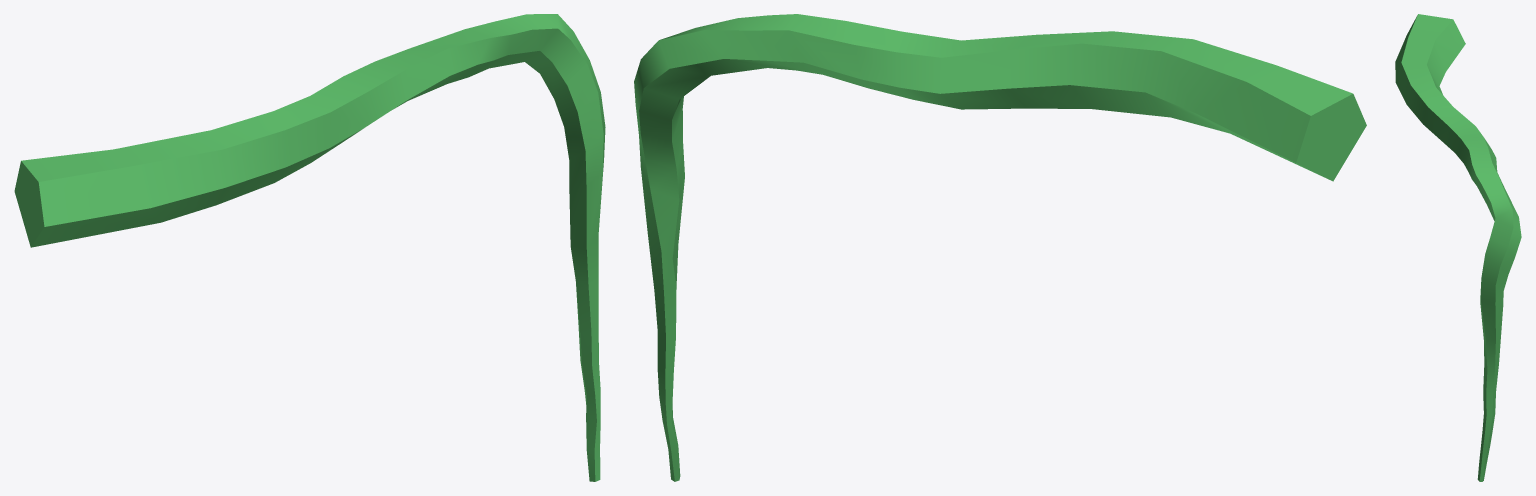
File: roots_solo_A_H.fbx
3 views of the same model, side by side, from view 1: azimuth 30°, elevation 25°; view 2: azimuth 150°, elevation 25°; view 3: azimuth 270°, elevation 25° (orthographic). The views are drawn at different scales.
Parts seen in each view (by area): view 1: roots_solo_A_H; view 2: roots_solo_A_H; view 3: roots_solo_A_H.
Boxes of the visible parts, <box> form: roots_solo_A_H: <box>14,14,605,481</box>; roots_solo_A_H: <box>634,14,1366,481</box>; roots_solo_A_H: <box>1395,14,1521,481</box>.
Size of the model in its own units: 138 by 101 by 39.67.
